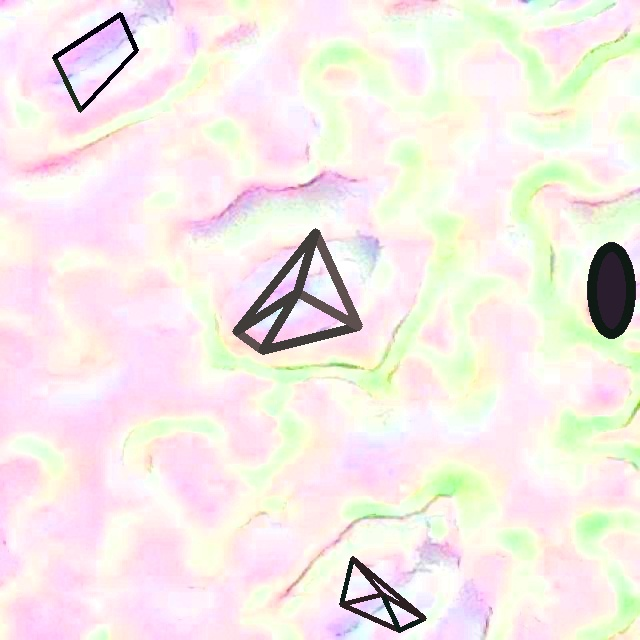open: (233, 229, 361, 354), (52, 13, 137, 112), (339, 556, 426, 632), (587, 242, 635, 338)
